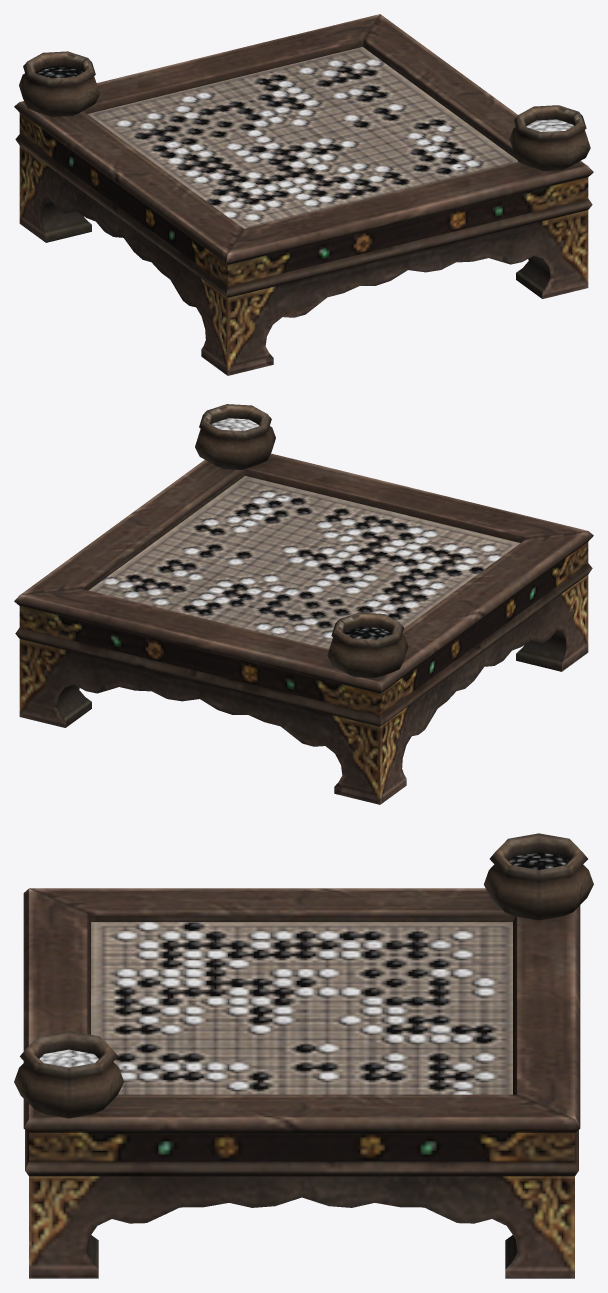
Rendered from ZYthi_CLF_qipan01.FBX.
3 views of the same model, one above another, from view 1: azimuth 30°, elevation 25°; view 2: azimuth 150°, elevation 25°; view 3: azimuth 270°, elevation 25° (orthographic). The views are drawn at different scales.
Visible parts, largest first — view 1: ZYthi_CLF_qipan01; view 2: ZYthi_CLF_qipan01; view 3: ZYthi_CLF_qipan01.
Boxes of the visible parts, x1=… form: ZYthi_CLF_qipan01: x1=14, y1=14, x2=593, y2=375; ZYthi_CLF_qipan01: x1=14, y1=404, x2=593, y2=804; ZYthi_CLF_qipan01: x1=14, y1=833, x2=593, y2=1278.
Size of the model in its own units: 140 by 56.85 by 139.
